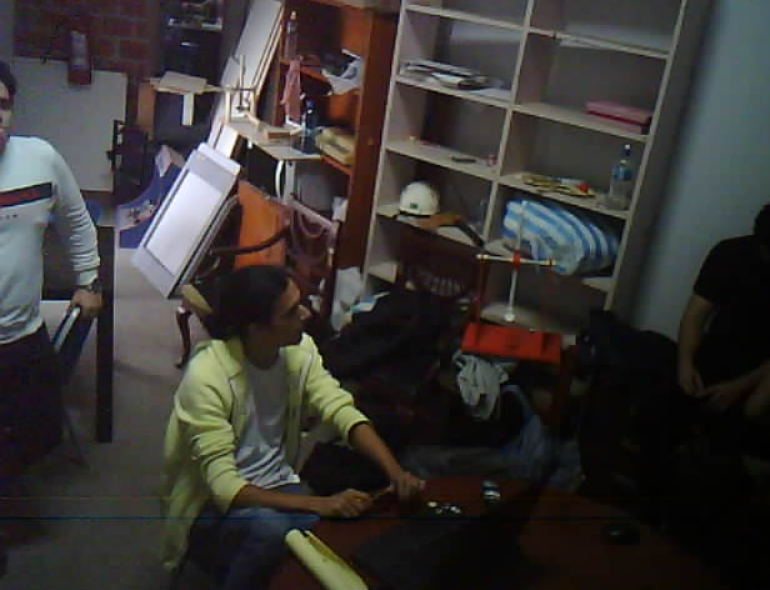person: (151, 246, 435, 590), (0, 64, 106, 590), (646, 164, 770, 521)
